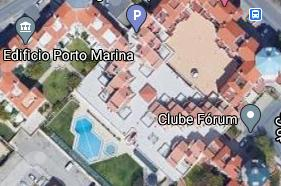pool: (71, 116, 103, 162), (103, 141, 118, 158)
